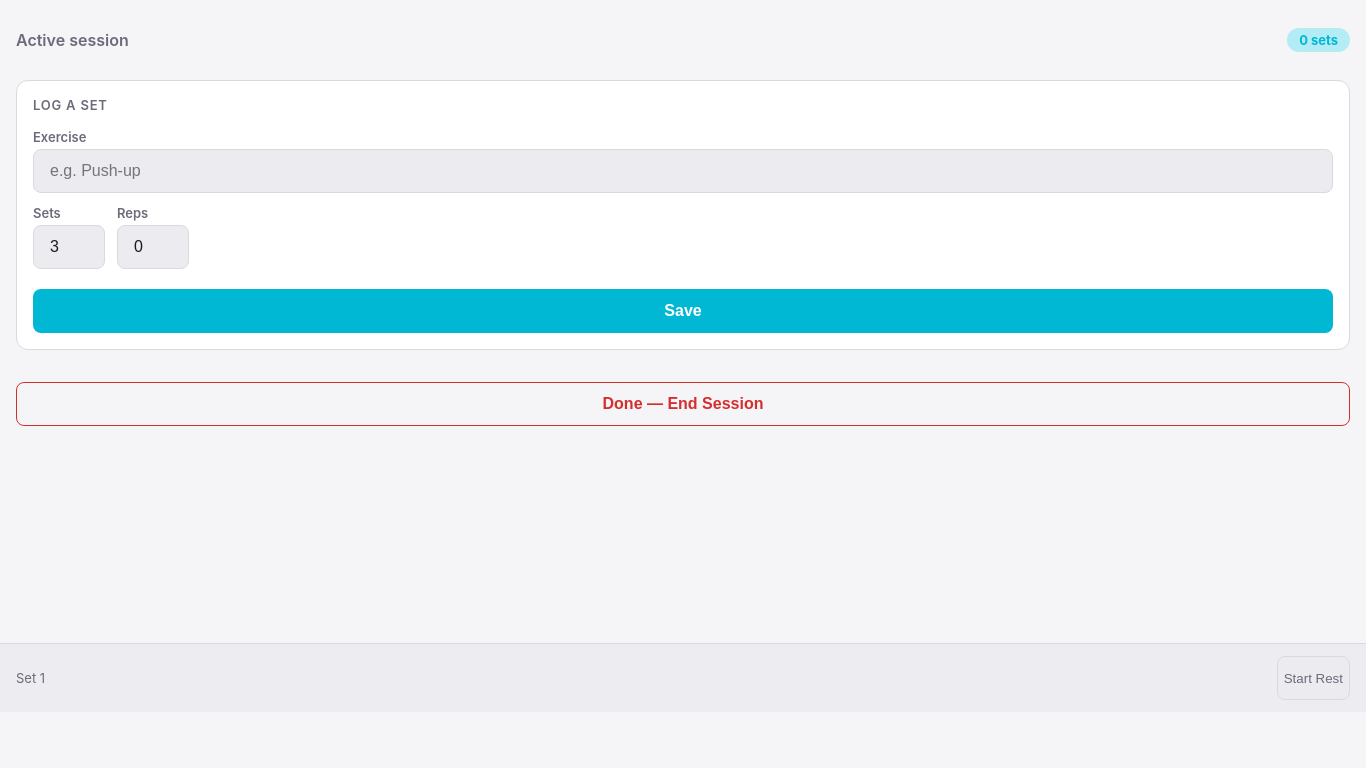
Scenario: SessionScreen isClosing and closeError states (step 01-05) › shows role=alert with close error text when repository close rejects
Step 1. Click the button with aria-label "close session" → (683, 404), box [16,382,1350,426]
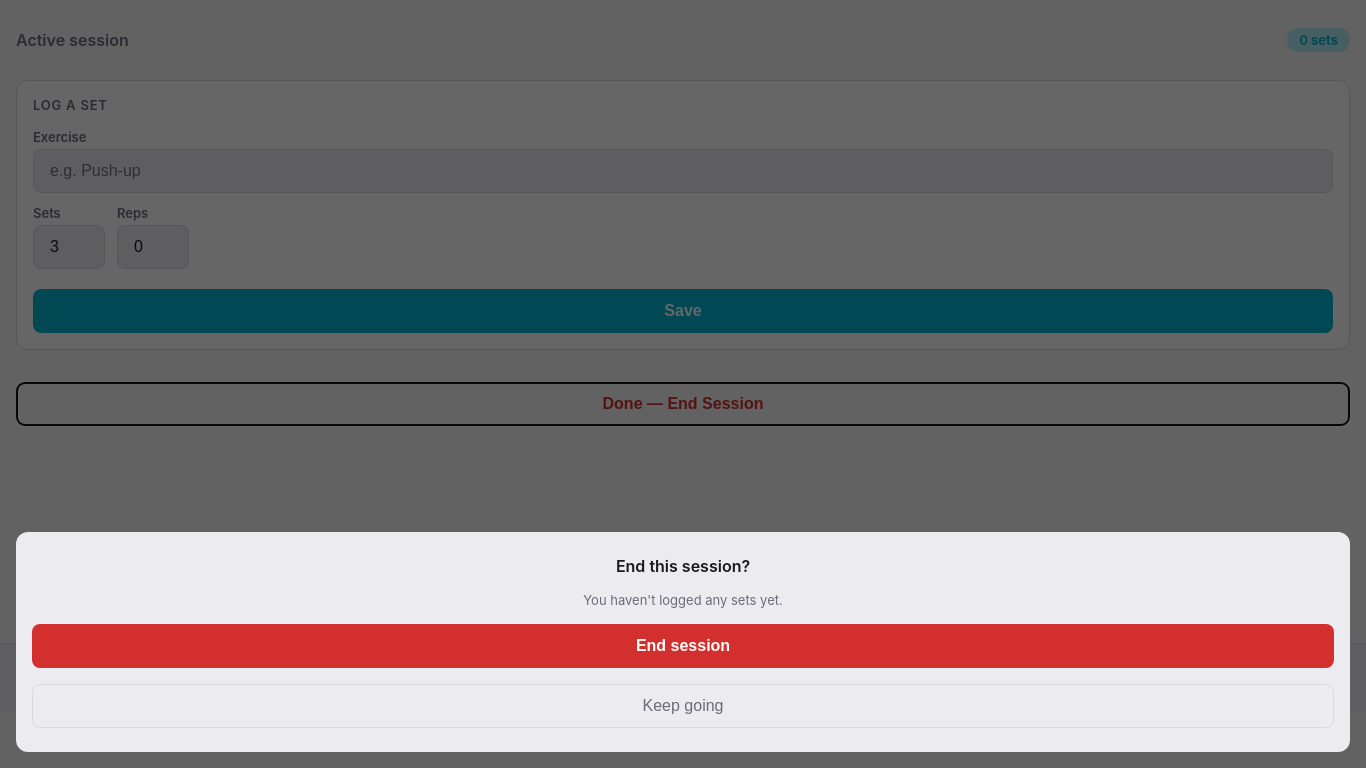
Step 2. Click the button "End session" → (683, 646), box [32,624,1334,668]
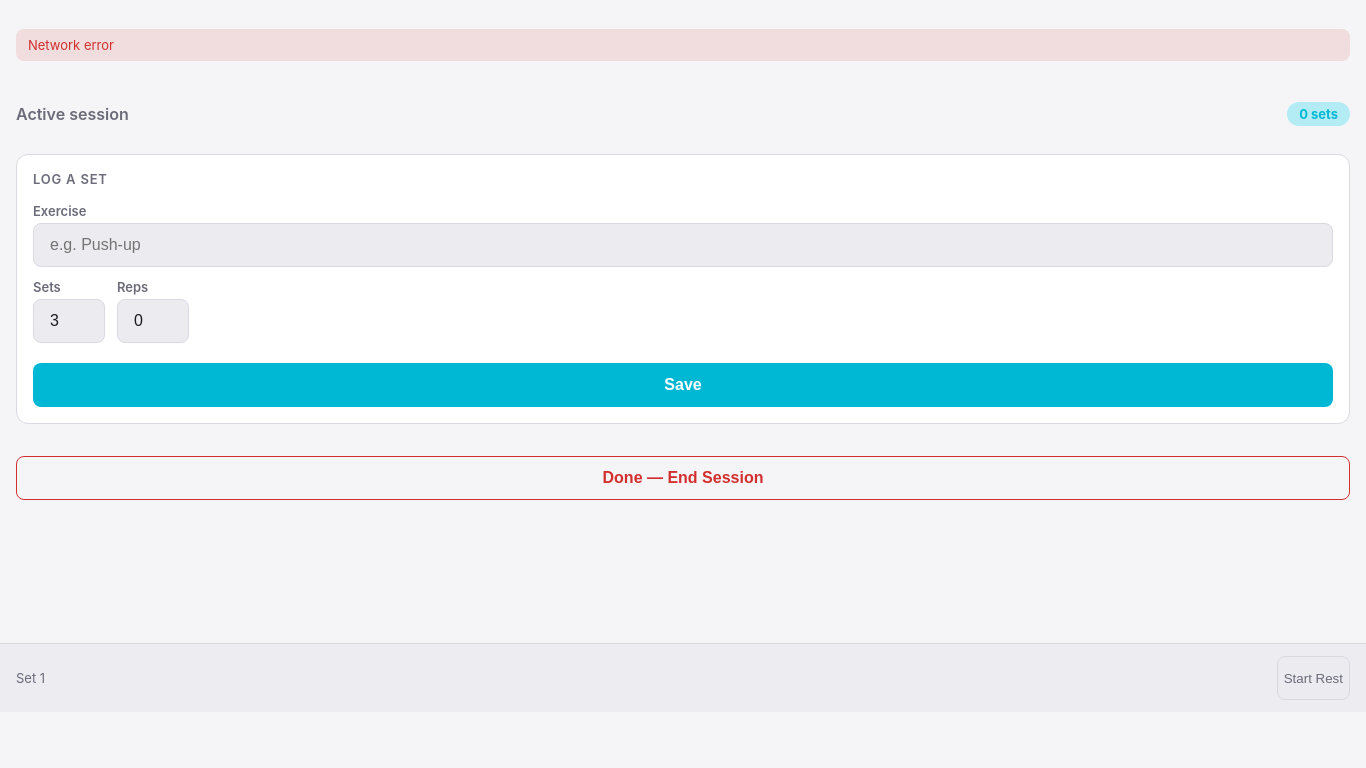
Result: the message "Network error" is shown at [16,29,1350,61]
